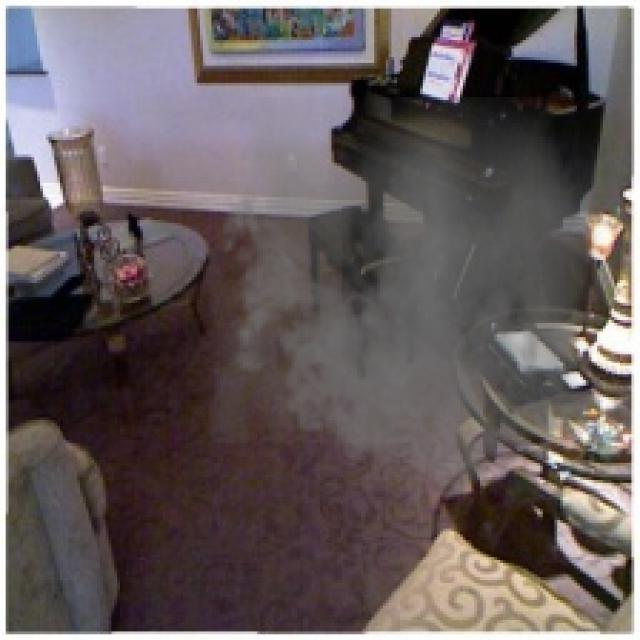smoke: (208, 97, 606, 512)
